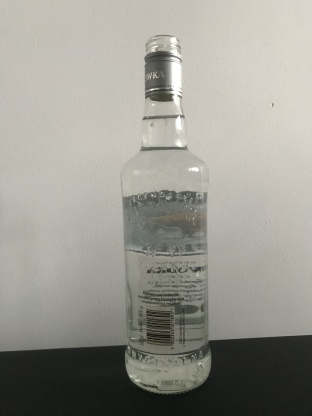nakretka: (142, 32, 184, 103)
